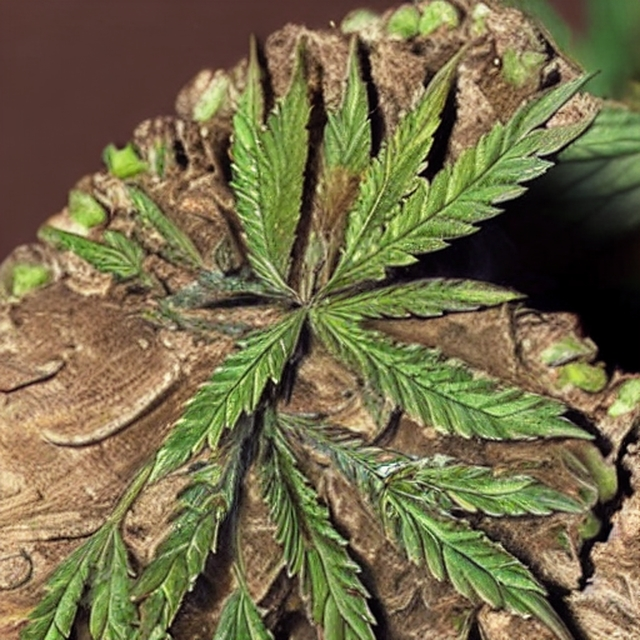Marijuana Leaf: (15, 23, 612, 640)
